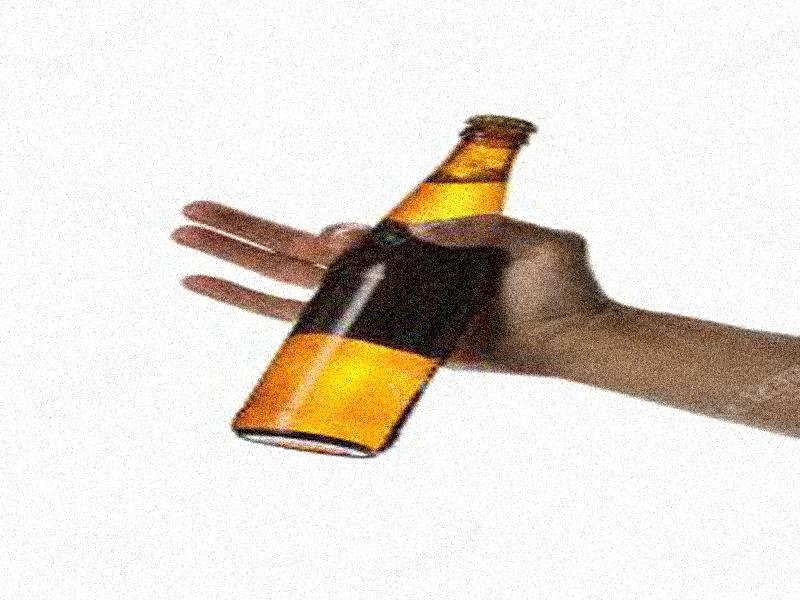Beer: (240, 122, 529, 456)
